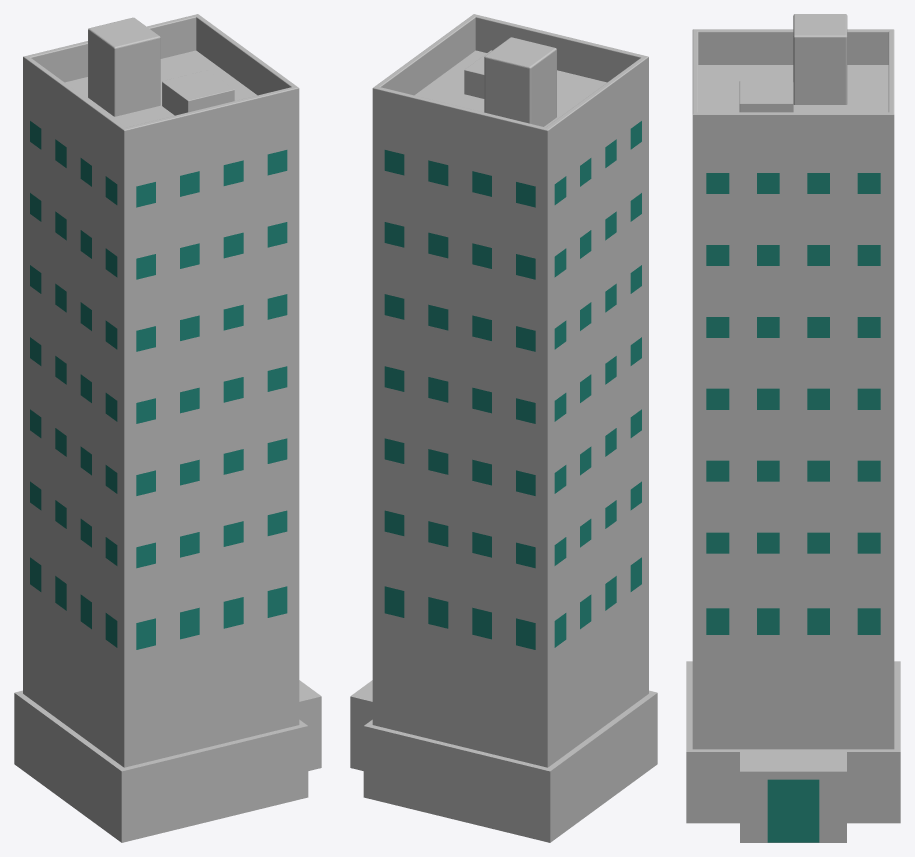
Rendered from buil3.fbx.
3 views of the same model, side by side, from view 1: azimuth 30°, elevation 25°; view 2: azimuth 150°, elevation 25°; view 3: azimuth 270°, elevation 25° (orthographic).
Parts seen in each view (by area): view 1: 平面.004; view 2: 平面.004; view 3: 平面.004.
Part boxes in pixels (x1=…): 平面.004: x1=14, y1=14, x2=321, y2=842; 平面.004: x1=350, y1=14, x2=657, y2=842; 平面.004: x1=686, y1=14, x2=900, y2=842.
Size of the model in its own units: 243 by 763 by 200.
